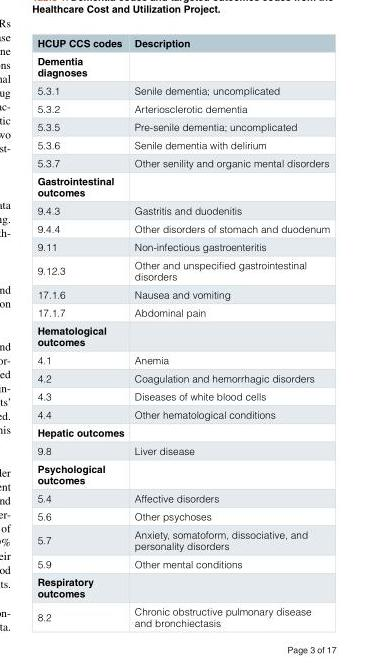table: (36, 36, 329, 628)
table column: (128, 36, 329, 628), (36, 36, 128, 628)
table column header: (36, 36, 329, 51)
table projected row header: (36, 51, 329, 80), (36, 171, 329, 200), (36, 321, 329, 350), (36, 459, 329, 488), (36, 572, 329, 601), (36, 423, 329, 441)
table row: (36, 524, 329, 554), (36, 51, 329, 80), (36, 171, 329, 200), (36, 255, 329, 284), (36, 321, 329, 350), (36, 459, 329, 488), (36, 572, 329, 601), (36, 601, 329, 628), (36, 80, 329, 99), (36, 200, 329, 219), (36, 284, 329, 303), (36, 404, 329, 423), (36, 99, 329, 117), (36, 117, 329, 135), (36, 135, 329, 153), (36, 153, 329, 171), (36, 219, 329, 237), (36, 237, 329, 255), (36, 303, 329, 321), (36, 350, 329, 368), (36, 368, 329, 386), (36, 386, 329, 404), (36, 423, 329, 441), (36, 441, 329, 459), (36, 488, 329, 506), (36, 506, 329, 524), (36, 554, 329, 572), (36, 36, 329, 51)
